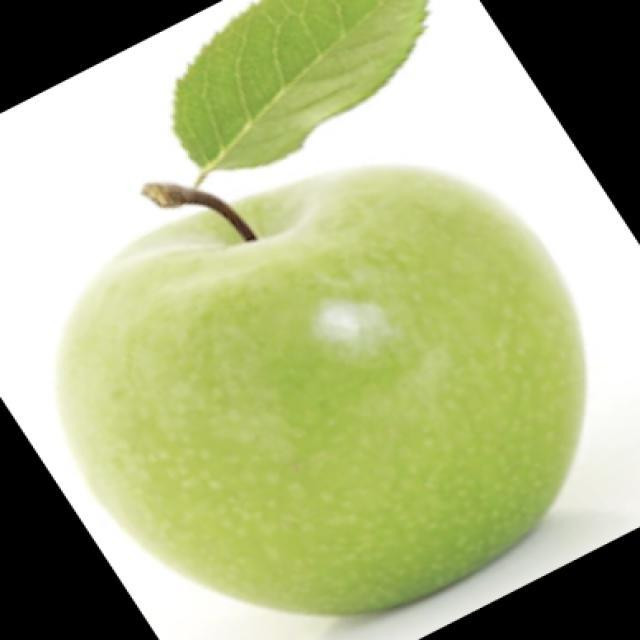Fresh Apple: (93, 140, 572, 615)
